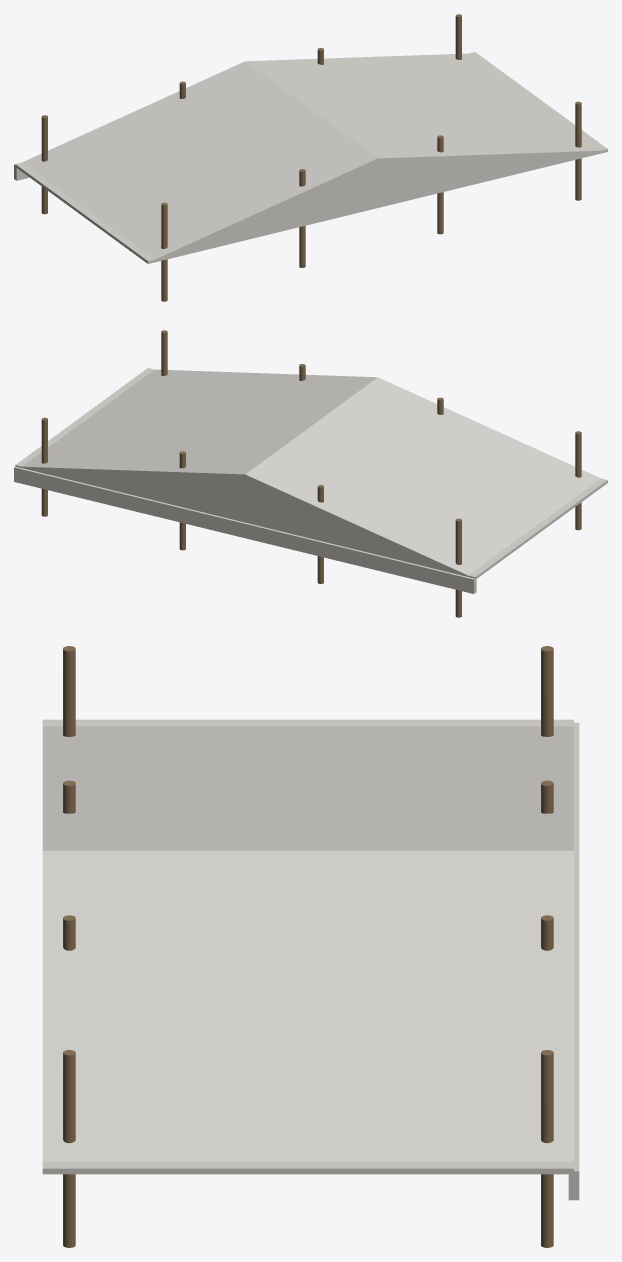
Rendered from d-gb-06-regatta-marquee.glb.
3 renders of one model, top to bottom at view 1: azimuth 30°, elevation 25°; view 2: azimuth 150°, elevation 25°; view 3: azimuth 270°, elevation 25°, orthographic. The views are drawn at different scales.
Visible parts, largest first — view 1: part8, part9, part0, part6, part1, part4, part2; view 2: part8, part10, part9, part7, part1, part0; view 3: part8, part9, part10, part6, part7, part0, part1.
Boxes of the visible parts, x1,y1,x2,y2 form: part8: (22, 53, 604, 262); part9: (15, 52, 607, 263); part0: (161, 202, 167, 301); part6: (575, 101, 581, 200); part1: (41, 115, 47, 214); part4: (437, 135, 443, 234); part2: (299, 169, 305, 267); part8: (21, 369, 600, 578); part10: (14, 466, 476, 593); part9: (15, 368, 607, 579); part7: (41, 417, 47, 516); part1: (455, 518, 461, 617); part0: (575, 431, 581, 530); part8: (42, 726, 573, 1161); part9: (42, 719, 573, 1174); part10: (568, 722, 579, 1200); part6: (63, 1050, 75, 1247); part7: (541, 1050, 553, 1247); part0: (63, 646, 75, 736); part1: (541, 646, 553, 736).
Size of the model in its own units: 20000 by 4000 by 10101.
